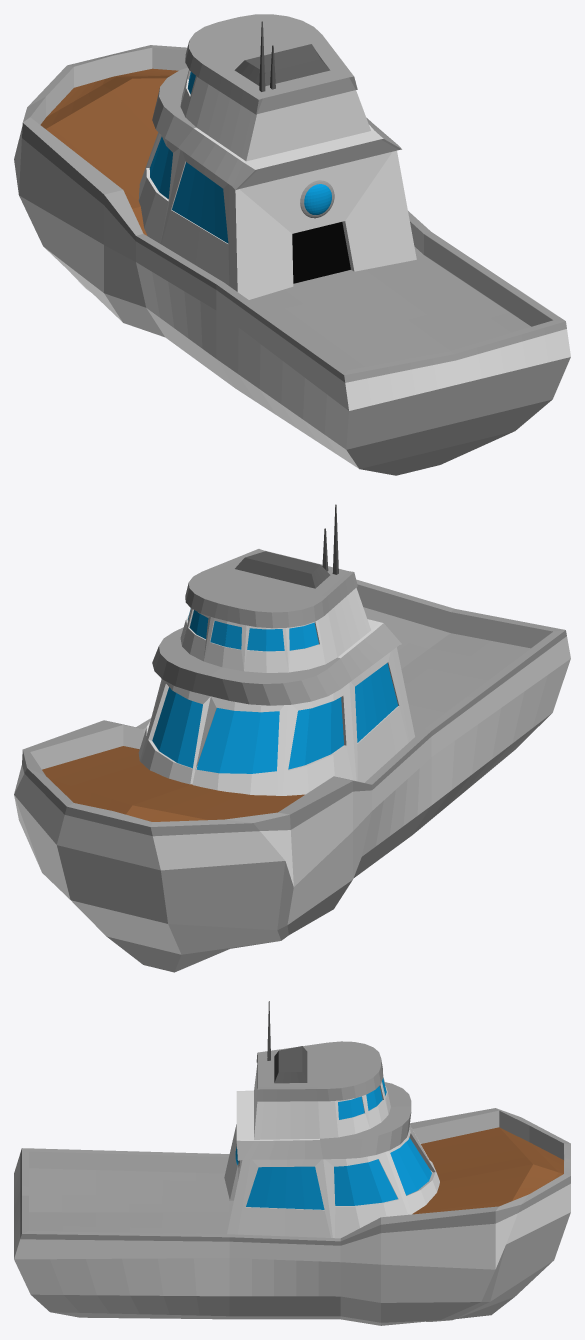
File: Barco Shipfulness.fbx
3 renders of one model, top to bottom at view 1: azimuth 30°, elevation 25°; view 2: azimuth 150°, elevation 25°; view 3: azimuth 270°, elevation 25°, orthographic. The views are drawn at different scales.
Visible parts, largest first — view 1: Cube; view 2: Cube; view 3: Cube.
Part boxes in pixels (<box>): Cube: <box>14,14,570,475</box>; Cube: <box>14,504,570,972</box>; Cube: <box>14,1001,570,1325</box>.
Bounding box in the file's own units: 243 × 313 × 538.
